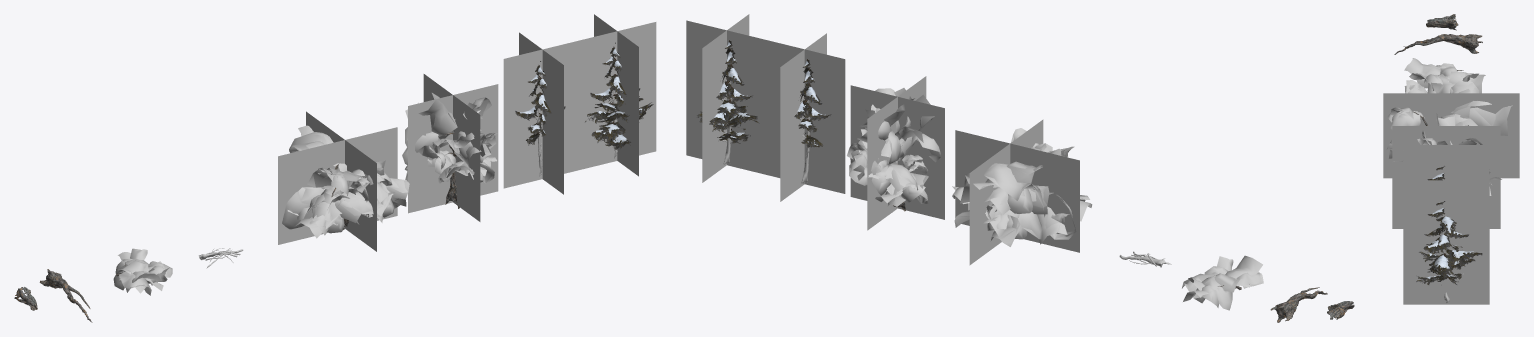
The model's file is WinterAssets_nature00.fbx.
3 renders of one model, left to right at view 1: azimuth 30°, elevation 25°; view 2: azimuth 150°, elevation 25°; view 3: azimuth 270°, elevation 25°, orthographic. The views are drawn at different scales.
Parts seen in each view (by area): view 1: PinePlane001, PinePlane00, DeadTreePlane00, DeadTreePlane001, TreeTrunk1, TreeTrunk0, TreeTrunk005, DeadBranches001_LOD0, PineTrunk00, TreeTrunk004, PineTrunk001, PineTrunk002 (+2 smaller); view 2: PinePlane001, PinePlane00, DeadTreePlane001, DeadTreePlane00, TreeTrunk1, TreeTrunk0, DeadBranches001_LOD0, TreeTrunk004, TreeTrunk005, PineTrunk00, PineTrunk002, PineTrunk001 (+2 smaller); view 3: PinePlane00, DeadTreePlane001, DeadTreePlane00, PinePlane001, TreeTrunk1, PineTrunk00, DeadBranches001_LOD0, PineTrunk001, TreeTrunk005, TreeTrunkDead_LOD00, TreeTrunk004, TreeTrunkDead1_LOD000 (+1 smaller).
Boxes of the visible parts, <box> form: PinePlane001: <box>503,32,581,194</box>; PinePlane00: <box>578,14,656,176</box>; DeadTreePlane00: <box>408,74,498,221</box>; DeadTreePlane001: <box>278,111,397,251</box>; TreeTrunk1: <box>282,125,409,238</box>; TreeTrunk0: <box>402,95,497,208</box>; TreeTrunk005: <box>289,128,407,237</box>; DeadBranches001_LOD0: <box>113,248,172,295</box>; PineTrunk00: <box>585,43,653,158</box>; TreeTrunk004: <box>403,93,496,203</box>; PineTrunk001: <box>588,42,651,157</box>; PineTrunk002: <box>515,61,565,176</box>; PinePlane001: <box>764,33,845,201</box>; PinePlane00: <box>686,14,767,182</box>; DeadTreePlane001: <box>955,119,1079,265</box>; DeadTreePlane00: <box>850,76,944,230</box>; TreeTrunk1: <box>952,128,1092,246</box>; TreeTrunk0: <box>847,88,940,211</box>; DeadBranches001_LOD0: <box>1182,255,1263,310</box>; TreeTrunk004: <box>849,88,940,210</box>; TreeTrunk005: <box>953,135,1091,245</box>; PineTrunk00: <box>697,40,759,164</box>; PineTrunk002: <box>794,59,830,183</box>; PineTrunk001: <box>697,41,757,164</box>; PinePlane00: <box>1403,180,1489,304</box>; DeadTreePlane001: <box>1383,93,1519,178</box>; DeadTreePlane00: <box>1392,126,1500,228</box>; PinePlane001: <box>1403,145,1489,180</box>; TreeTrunk1: <box>1387,80,1512,158</box>; PineTrunk00: <box>1416,201,1482,303</box>; DeadBranches001_LOD0: <box>1404,58,1485,93</box>; PineTrunk001: <box>1418,201,1482,301</box>; TreeTrunk005: <box>1386,81,1510,149</box>; TreeTrunkDead_LOD00: <box>1394,34,1482,54</box>; TreeTrunk004: <box>1394,116,1501,195</box>; TreeTrunkDead1_LOD000: <box>1426,14,1458,30</box>.
Size of what is drawn, in the model's own units: 1810 by 391 by 350.
